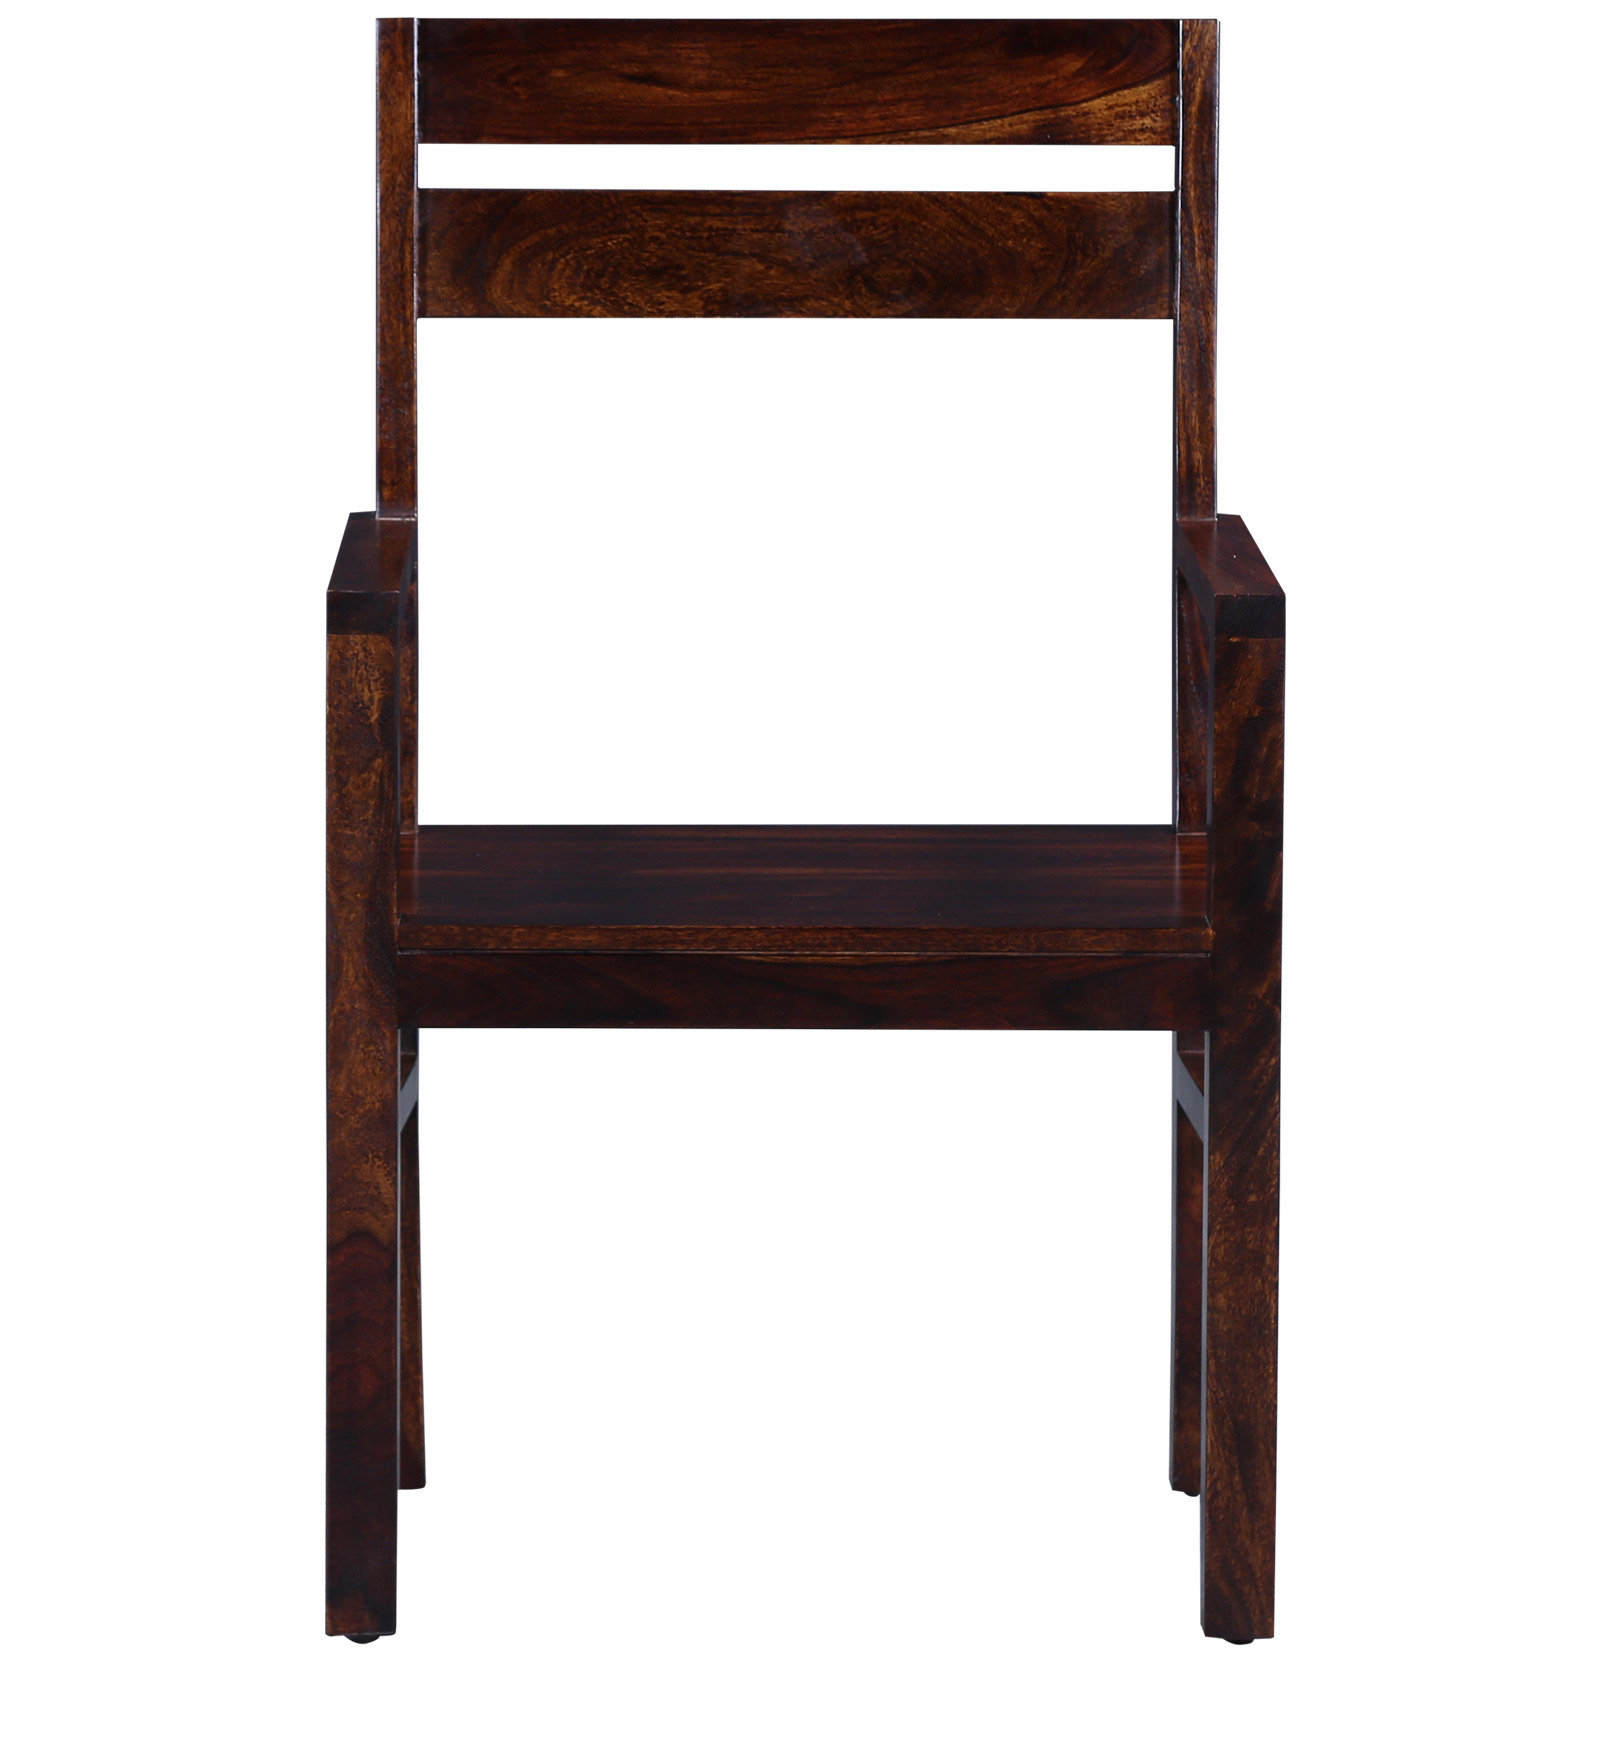Enkel Arm Chair in Provincial Teak Finish by Woodsworth: (257, 8, 1398, 1706)
